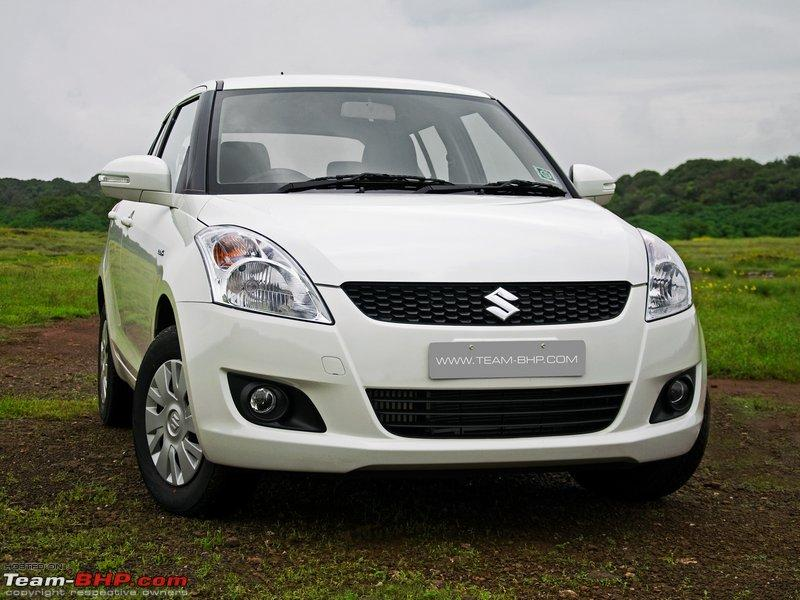car: (47, 56, 735, 559)
